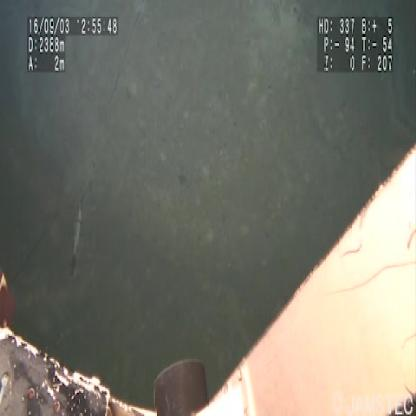Rov: (1, 143, 415, 414)
